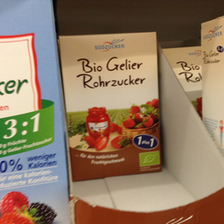tomato_sauce: (58, 30, 164, 182)
